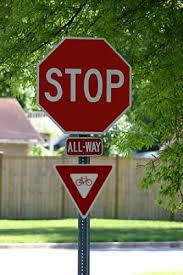stop_sign: (37, 37, 132, 133)
yield_sign: (54, 163, 113, 218)
